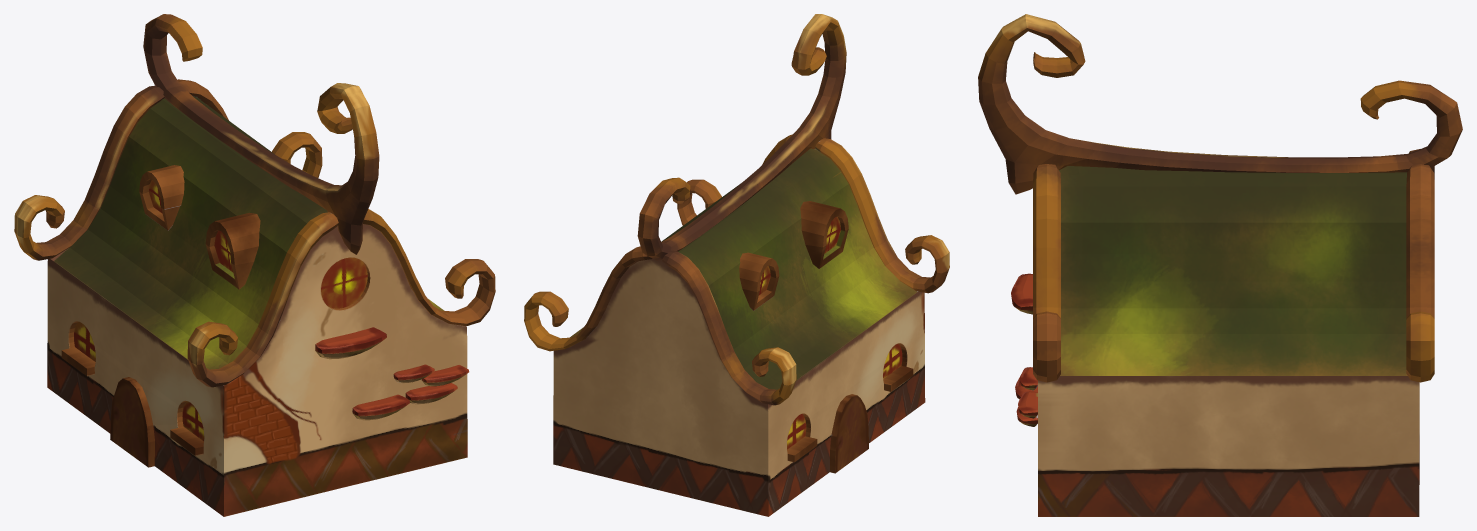
File: mole_house_WİTH_texture.fbx
The picture shows the model from 3 angles, left to right: view 1: azimuth 30°, elevation 25°; view 2: azimuth 150°, elevation 25°; view 3: azimuth 270°, elevation 25°; orthographic projection. The views are drawn at different scales.
Visible parts, largest first — view 1: mole_house_lp; view 2: mole_house_lp; view 3: mole_house_lp.
Boxes of the visible parts, x1,y1,x2,y2 form: mole_house_lp: [14, 14, 495, 516]; mole_house_lp: [524, 14, 949, 516]; mole_house_lp: [978, 14, 1462, 516].
Bounding box in the file's own units: 904 × 1162 × 1169.
Materials: 1 (1 with a texture image).
